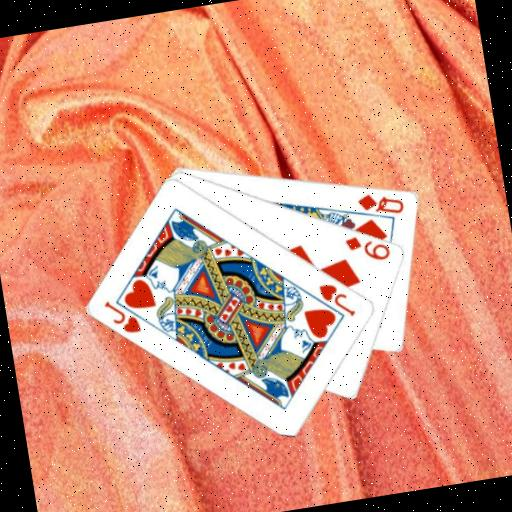9D: (341, 227, 393, 267)
JH: (315, 276, 358, 322), (100, 293, 143, 339)
QD: (353, 185, 407, 221)
